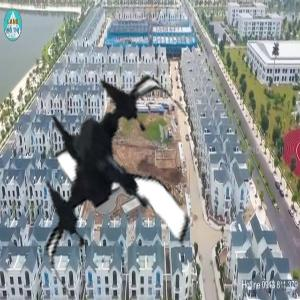drone: (7, 78, 228, 299)
